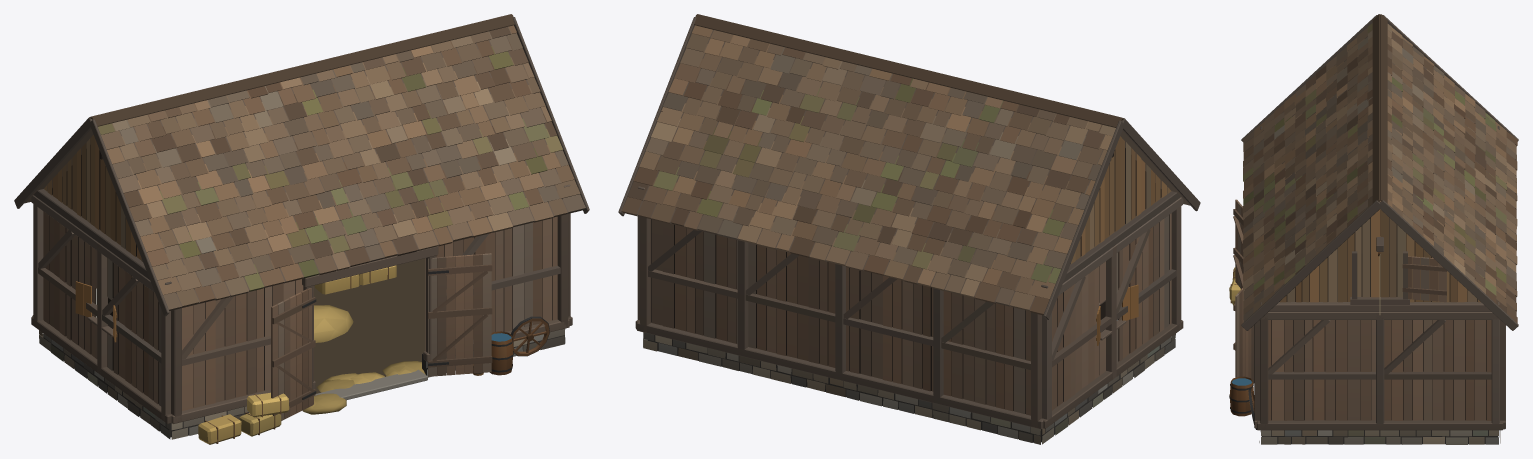
The model's file is village_barn.glb.
3 views of the same model, side by side, from view 1: azimuth 30°, elevation 25°; view 2: azimuth 150°, elevation 25°; view 3: azimuth 270°, elevation 25° (orthographic). The views are drawn at different scales.
Visible parts, largest first — view 1: VillageBarn; view 2: VillageBarn; view 3: VillageBarn.
Boxes of the visible parts, x1=… form: VillageBarn: x1=14, y1=14, x2=589, y2=444; VillageBarn: x1=618, y1=14, x2=1200, y2=444; VillageBarn: x1=1229, y1=14, x2=1518, y2=444.
Bounding box in the file's own units: 11.95 × 7.98 × 7.76.
